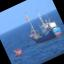fishing boat: (19, 0, 64, 49)
